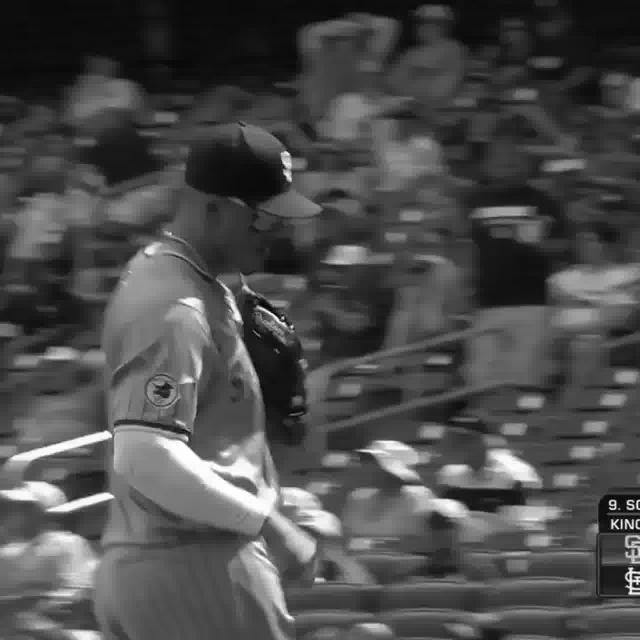baseball_glove: (236, 286, 308, 446)
